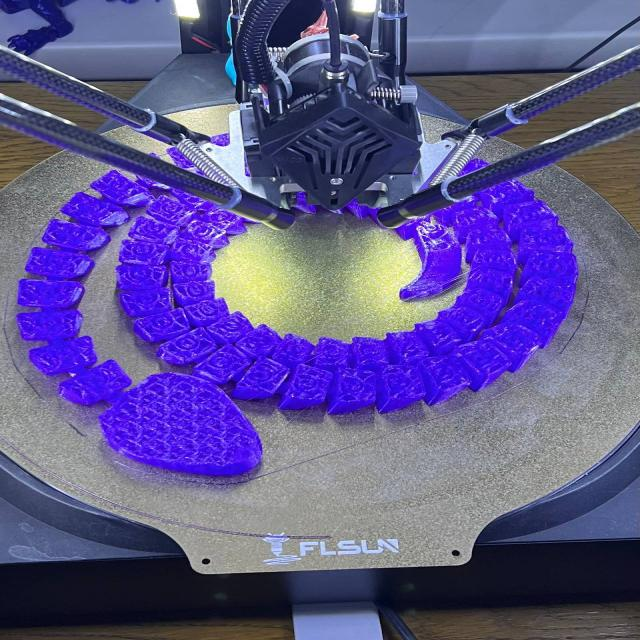Without deffect: (18, 135, 610, 498)
